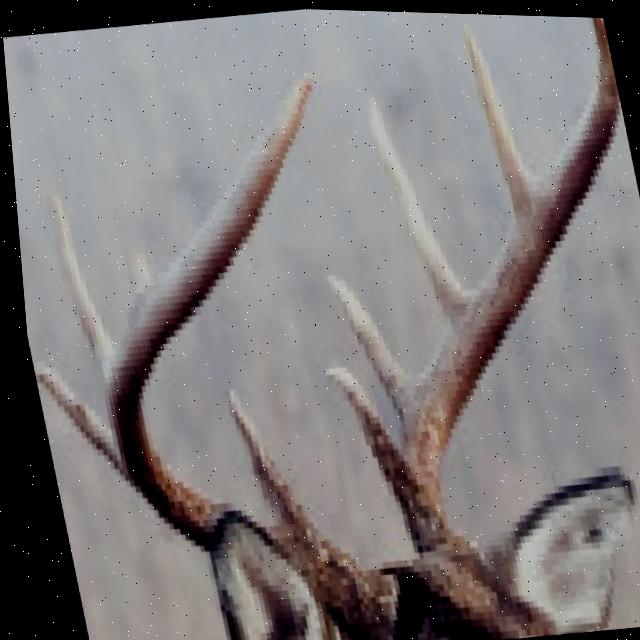L-G1: (217, 386, 303, 523)
L-G2: (26, 358, 120, 485)
L-G3: (44, 184, 110, 389)
L-G4: (120, 248, 148, 300)
R-F: (387, 14, 621, 556)
R-G1: (314, 361, 392, 496)
R-G2: (320, 269, 414, 443)
R-G3: (363, 88, 468, 328)
R-G4: (460, 13, 535, 220)
